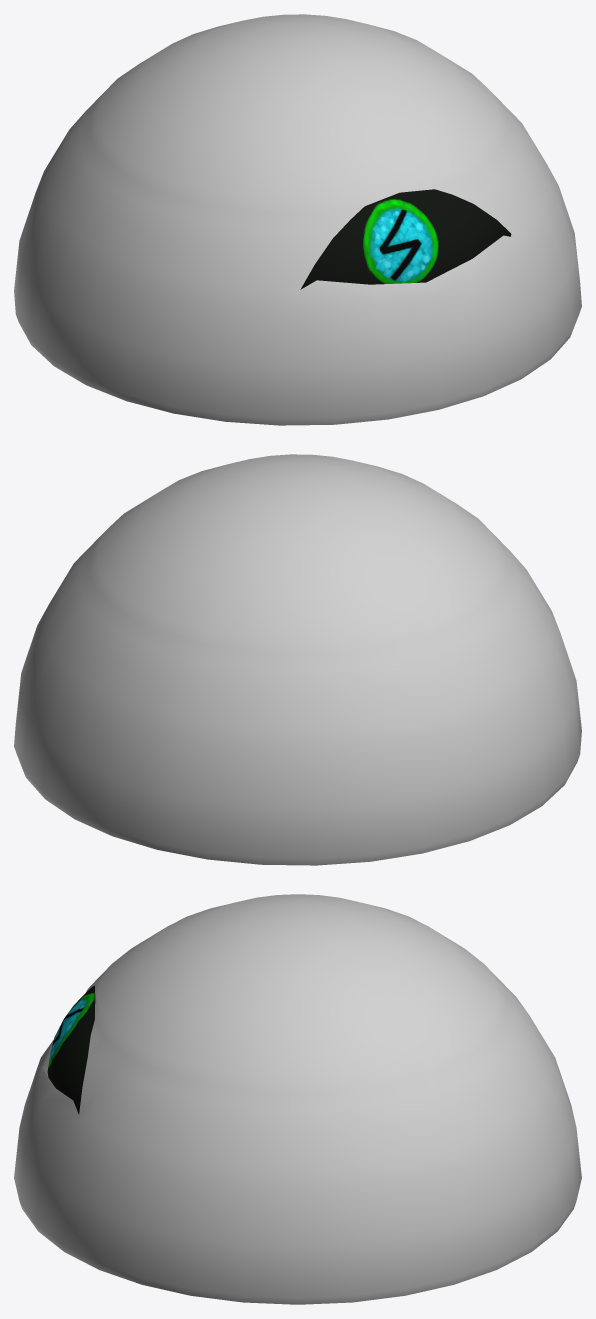
The model's file is Boss_2.fbx.
The picture shows the model from 3 angles, top to bottom: view 1: azimuth 30°, elevation 25°; view 2: azimuth 150°, elevation 25°; view 3: azimuth 270°, elevation 25°; orthographic projection.
Visible parts, largest first — view 1: Globito_Mamado, Ojoete; view 2: Globito_Mamado; view 3: Globito_Mamado, Ojoete.
Part boxes in pixels (x1,y1,x2,y2): Globito_Mamado: (14, 14, 581, 425); Ojoete: (300, 189, 511, 289); Globito_Mamado: (14, 454, 581, 865); Globito_Mamado: (14, 894, 581, 1304); Ojoete: (47, 985, 95, 1114).
Size of the model in its own units: 178 by 91.74 by 178.
